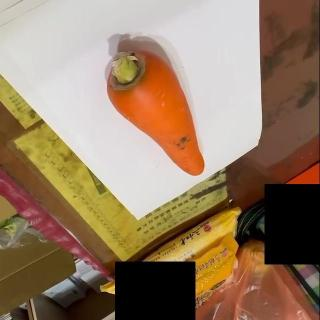carrot: (106, 46, 206, 178)
